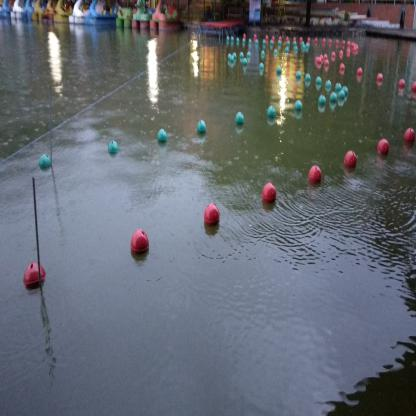green_buoy: (38, 152, 52, 169), (107, 140, 120, 154), (196, 119, 207, 133), (157, 128, 168, 142), (267, 104, 276, 119), (235, 110, 244, 124), (341, 85, 349, 97), (337, 89, 345, 101), (294, 99, 302, 111), (318, 94, 326, 105), (324, 79, 332, 89), (334, 82, 342, 92), (329, 92, 337, 102), (242, 57, 248, 67), (305, 72, 311, 82), (315, 76, 322, 84), (276, 66, 282, 74), (227, 53, 232, 62), (259, 62, 264, 71), (296, 70, 301, 79), (230, 55, 235, 63), (246, 51, 251, 58), (239, 52, 244, 59), (232, 52, 237, 59), (262, 38, 266, 46), (305, 42, 310, 48), (301, 44, 306, 50), (293, 46, 298, 52), (285, 46, 289, 53), (226, 35, 230, 41), (236, 37, 240, 43), (248, 37, 252, 43), (254, 38, 258, 44), (286, 40, 290, 46), (300, 41, 304, 47), (305, 44, 309, 50), (261, 50, 265, 56), (242, 38, 246, 43), (274, 49, 278, 54), (270, 39, 273, 45), (293, 40, 296, 46), (231, 36, 234, 41), (278, 40, 281, 45)
red_buoy: (22, 260, 46, 291), (130, 227, 150, 255), (261, 179, 277, 206), (204, 202, 220, 226), (343, 150, 358, 170), (308, 163, 322, 184), (376, 139, 390, 157), (403, 126, 415, 144), (376, 71, 384, 82), (398, 77, 405, 89), (410, 80, 416, 94), (356, 66, 363, 76), (316, 56, 322, 64), (339, 63, 345, 70), (338, 50, 344, 56), (331, 51, 336, 58), (323, 53, 328, 60), (315, 56, 320, 63), (324, 59, 329, 66), (352, 46, 357, 52), (319, 54, 324, 60), (347, 40, 351, 46), (353, 43, 357, 49), (354, 44, 358, 50), (346, 48, 350, 54), (278, 36, 282, 41), (299, 37, 303, 42), (307, 37, 311, 42), (314, 37, 318, 42), (322, 38, 326, 43), (328, 38, 332, 43), (335, 39, 339, 44), (350, 42, 354, 47), (243, 33, 246, 39), (272, 35, 275, 41), (293, 36, 296, 42), (342, 40, 346, 44), (266, 35, 269, 40), (286, 36, 289, 41), (254, 34, 257, 38)
